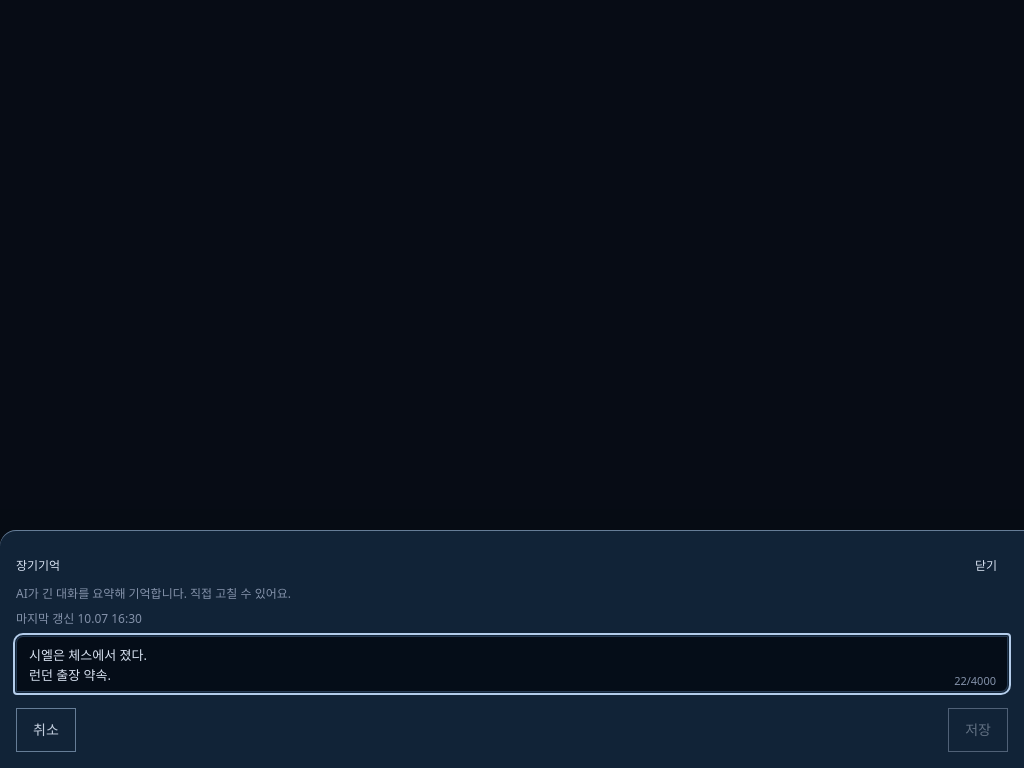
MemorySheet 부품 — 콜백 계약 (F-CH-54 ~ 59, ME §1.2) › TC-CH-132: (부품) 저장 INTERNAL → 콜백 0회 · 시트 안 alert
Replace the text in the text box named "장기기억 요약" with "새 요약" at (512, 664), box [16,636,1008,692]
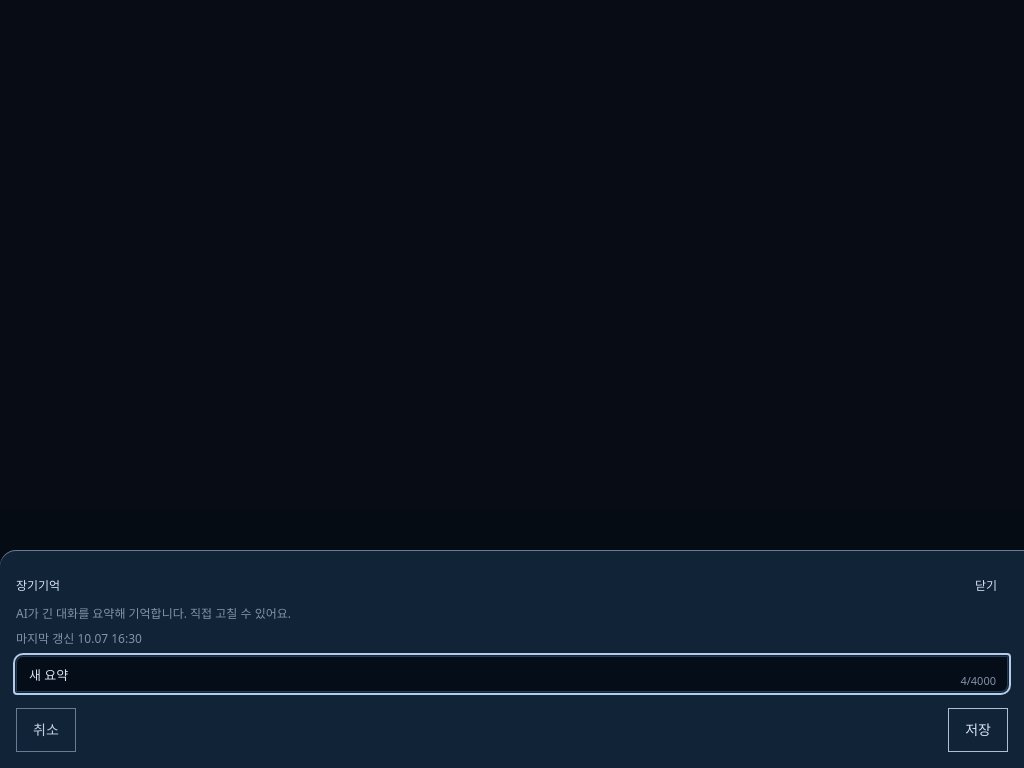
Click the button "저장" at (978, 730), box [948,708,1008,752]
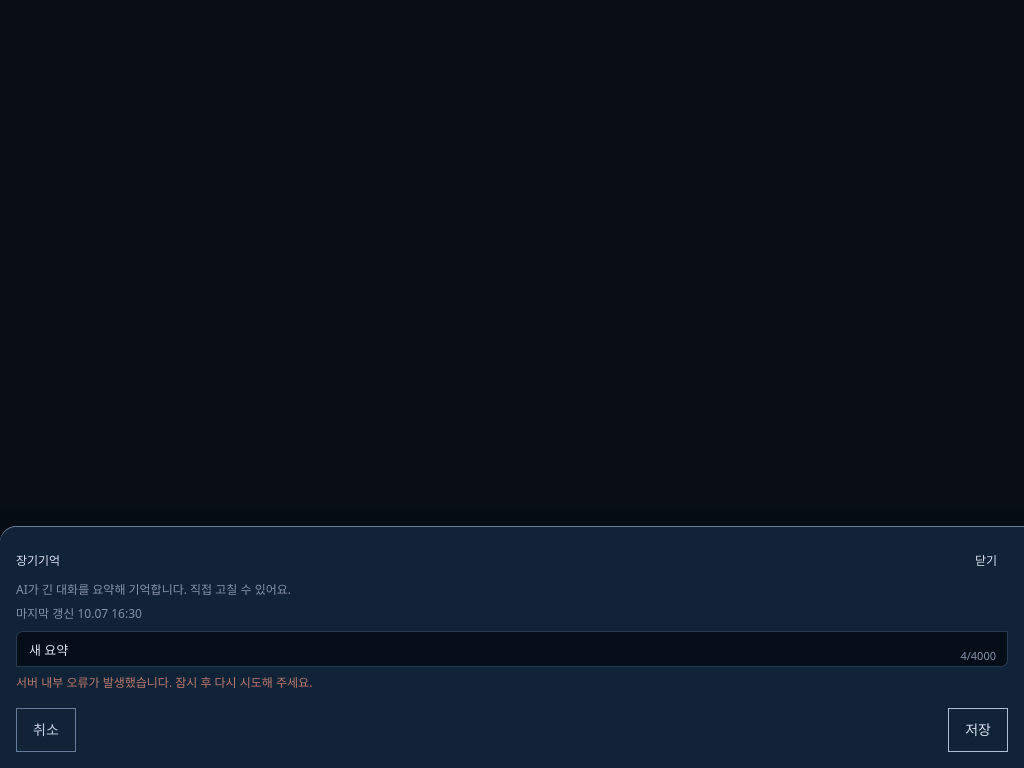
Expected: the message reads "서버 내부 오류가 발생했습니다. 잠시 후 다시 시도해 주세요.", [16,674,312,691]
